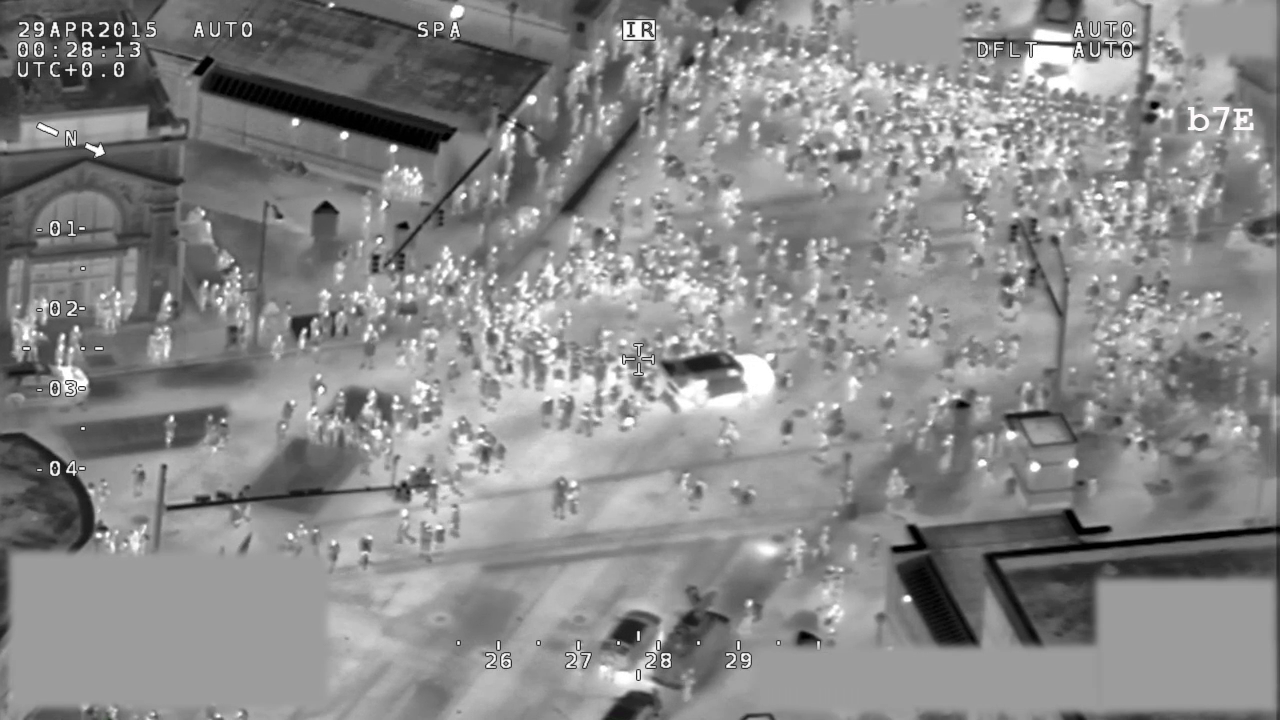vehicle: (646, 578, 747, 701), (646, 345, 784, 417), (1023, 1, 1089, 94), (590, 604, 666, 679), (1, 357, 96, 412)
